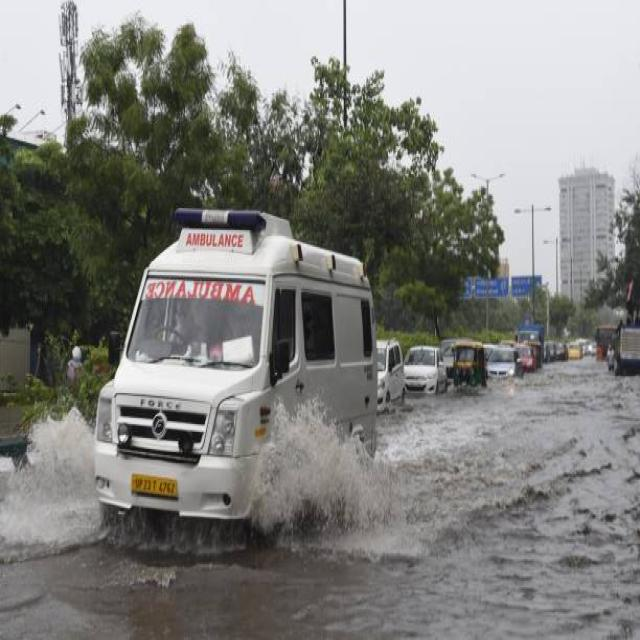ambulance: (144, 267, 267, 321), (172, 201, 272, 267)
